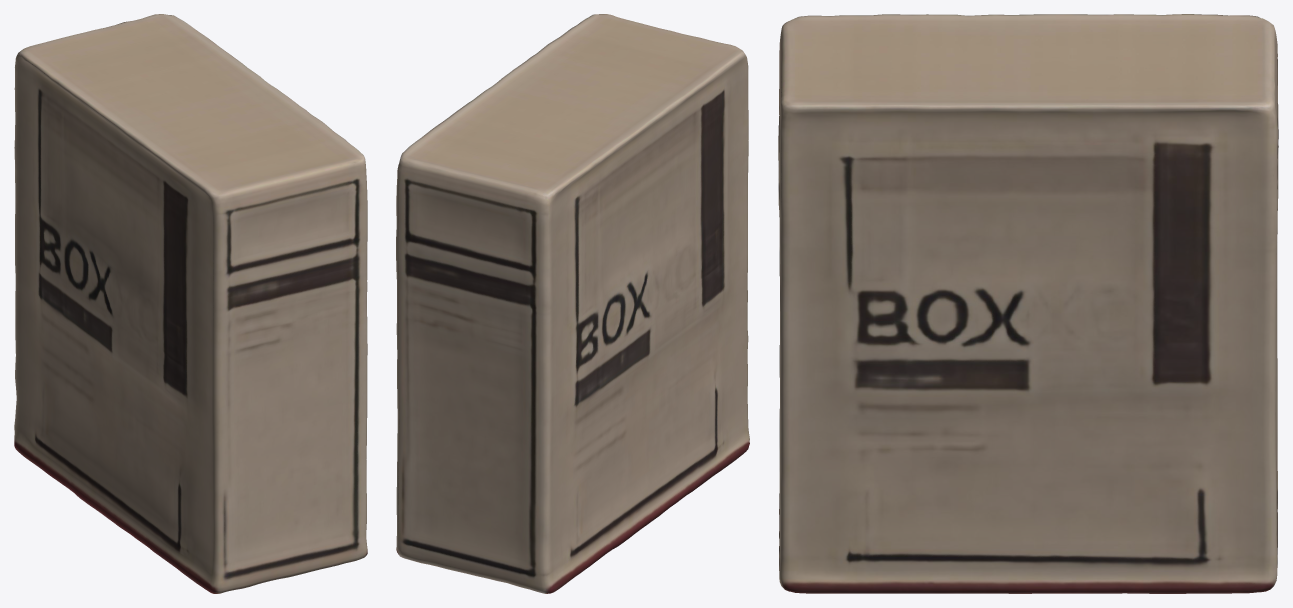
3 renders of one model, left to right at view 1: azimuth 30°, elevation 25°; view 2: azimuth 150°, elevation 25°; view 3: azimuth 270°, elevation 25°, orthographic. The views are drawn at different scales.
Parts seen in each view (by area): view 1: mesh; view 2: mesh; view 3: mesh.
Boxes of the visible parts, x1=… form: mesh: x1=14, y1=14, x2=367, y2=593; mesh: x1=396, y1=14, x2=749, y2=593; mesh: x1=778, y1=14, x2=1278, y2=593.
Size of the model in its own units: 0.4139 by 0.9989 by 0.9231.
1 material, 1 textured.
